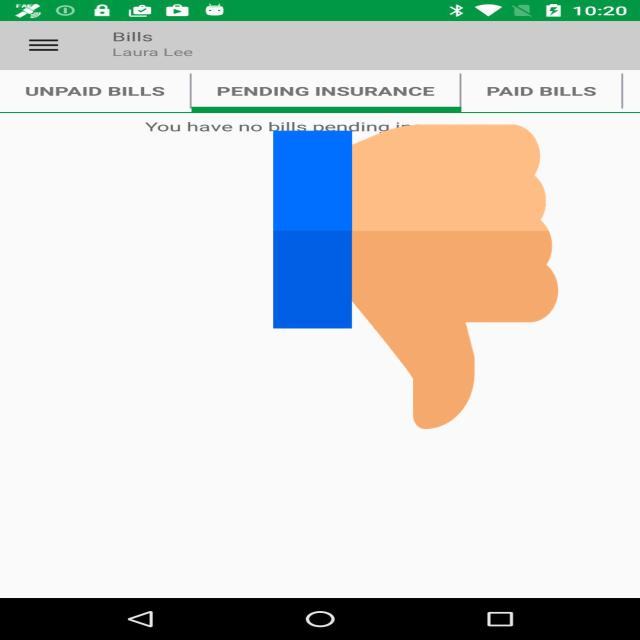obstruction: (273, 117, 558, 437)
